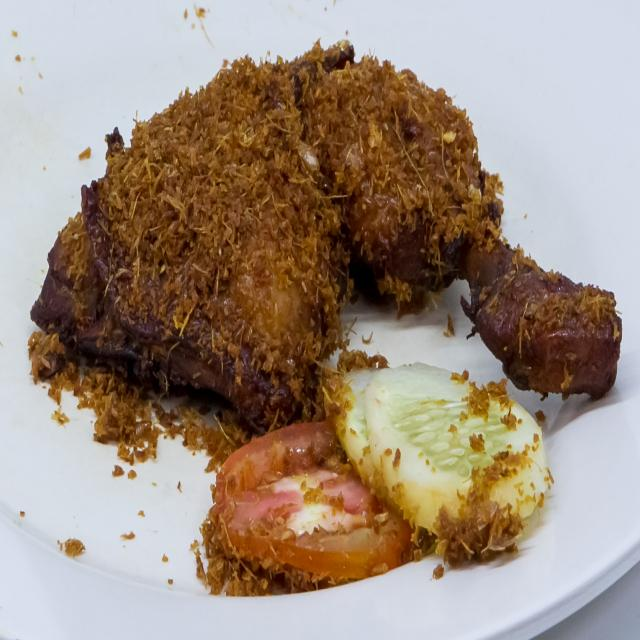Ayam-Goreng-Lengkuas: (20, 22, 630, 455)
